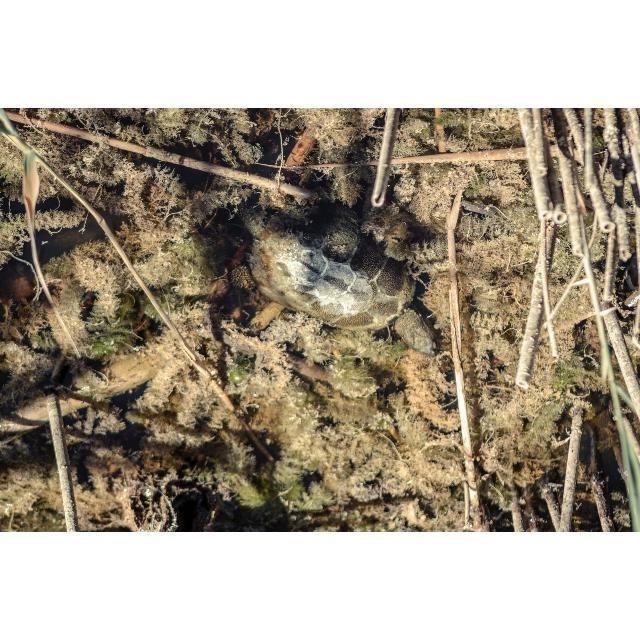turtle: (229, 197, 441, 358)
